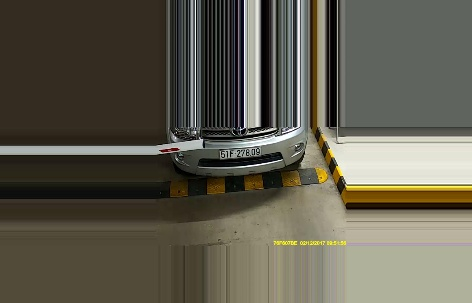plate: (215, 145, 265, 158)
